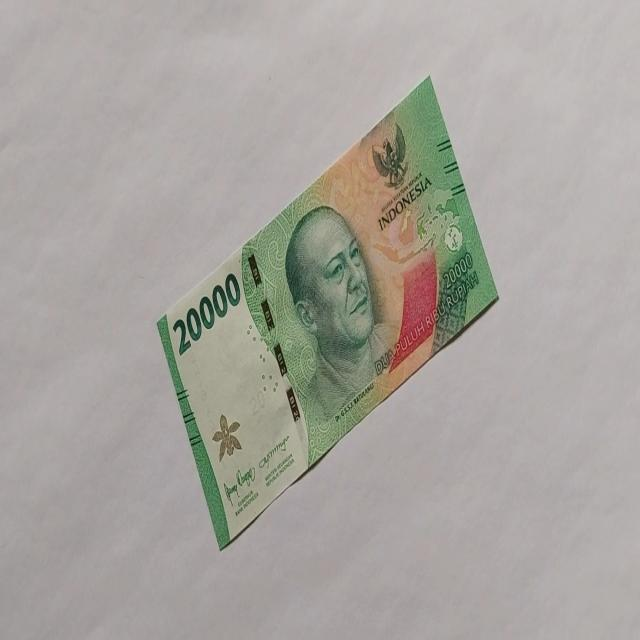dua puluh ribu rupiah: (156, 73, 500, 550), (171, 270, 241, 358)
